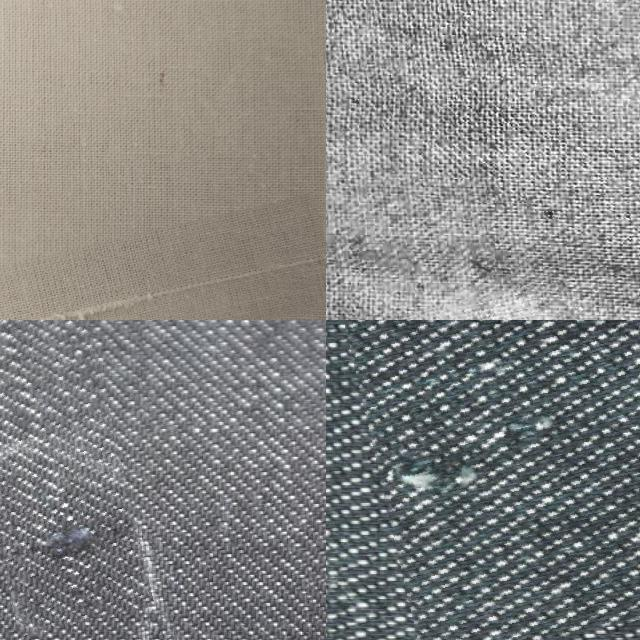stains: (338, 320, 640, 640), (0, 320, 130, 630), (0, 225, 326, 320)
